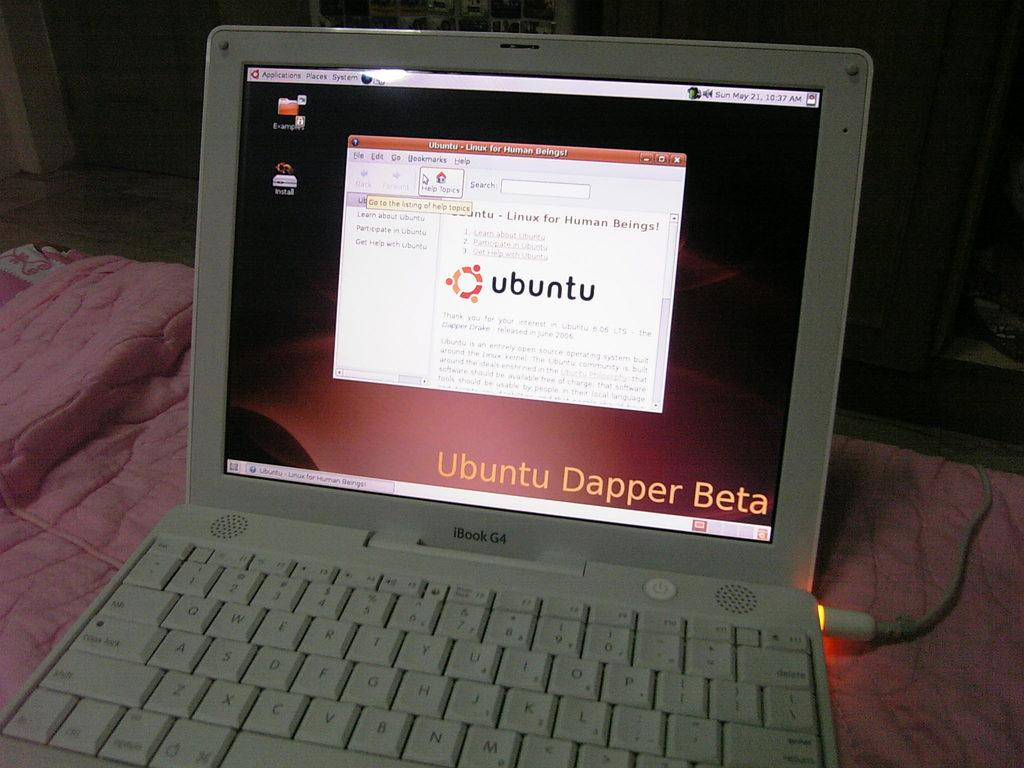Computer-keyboard: (0, 540, 822, 767)
Laptop: (31, 49, 925, 768)
